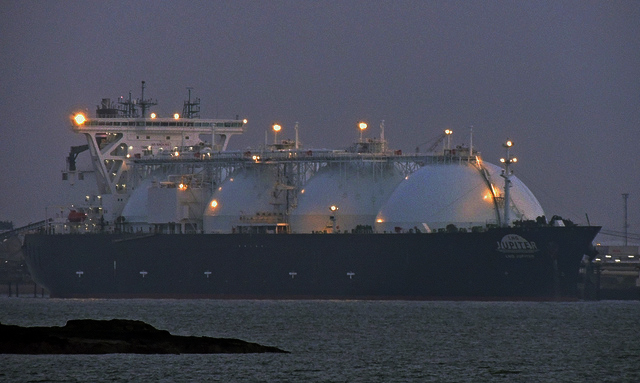LNG_ship: (27, 82, 602, 301)
